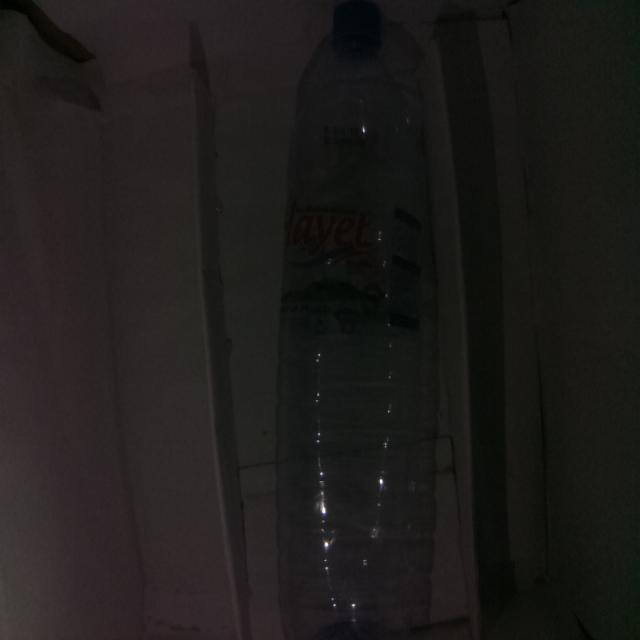Anorganik: (278, 0, 444, 640)
